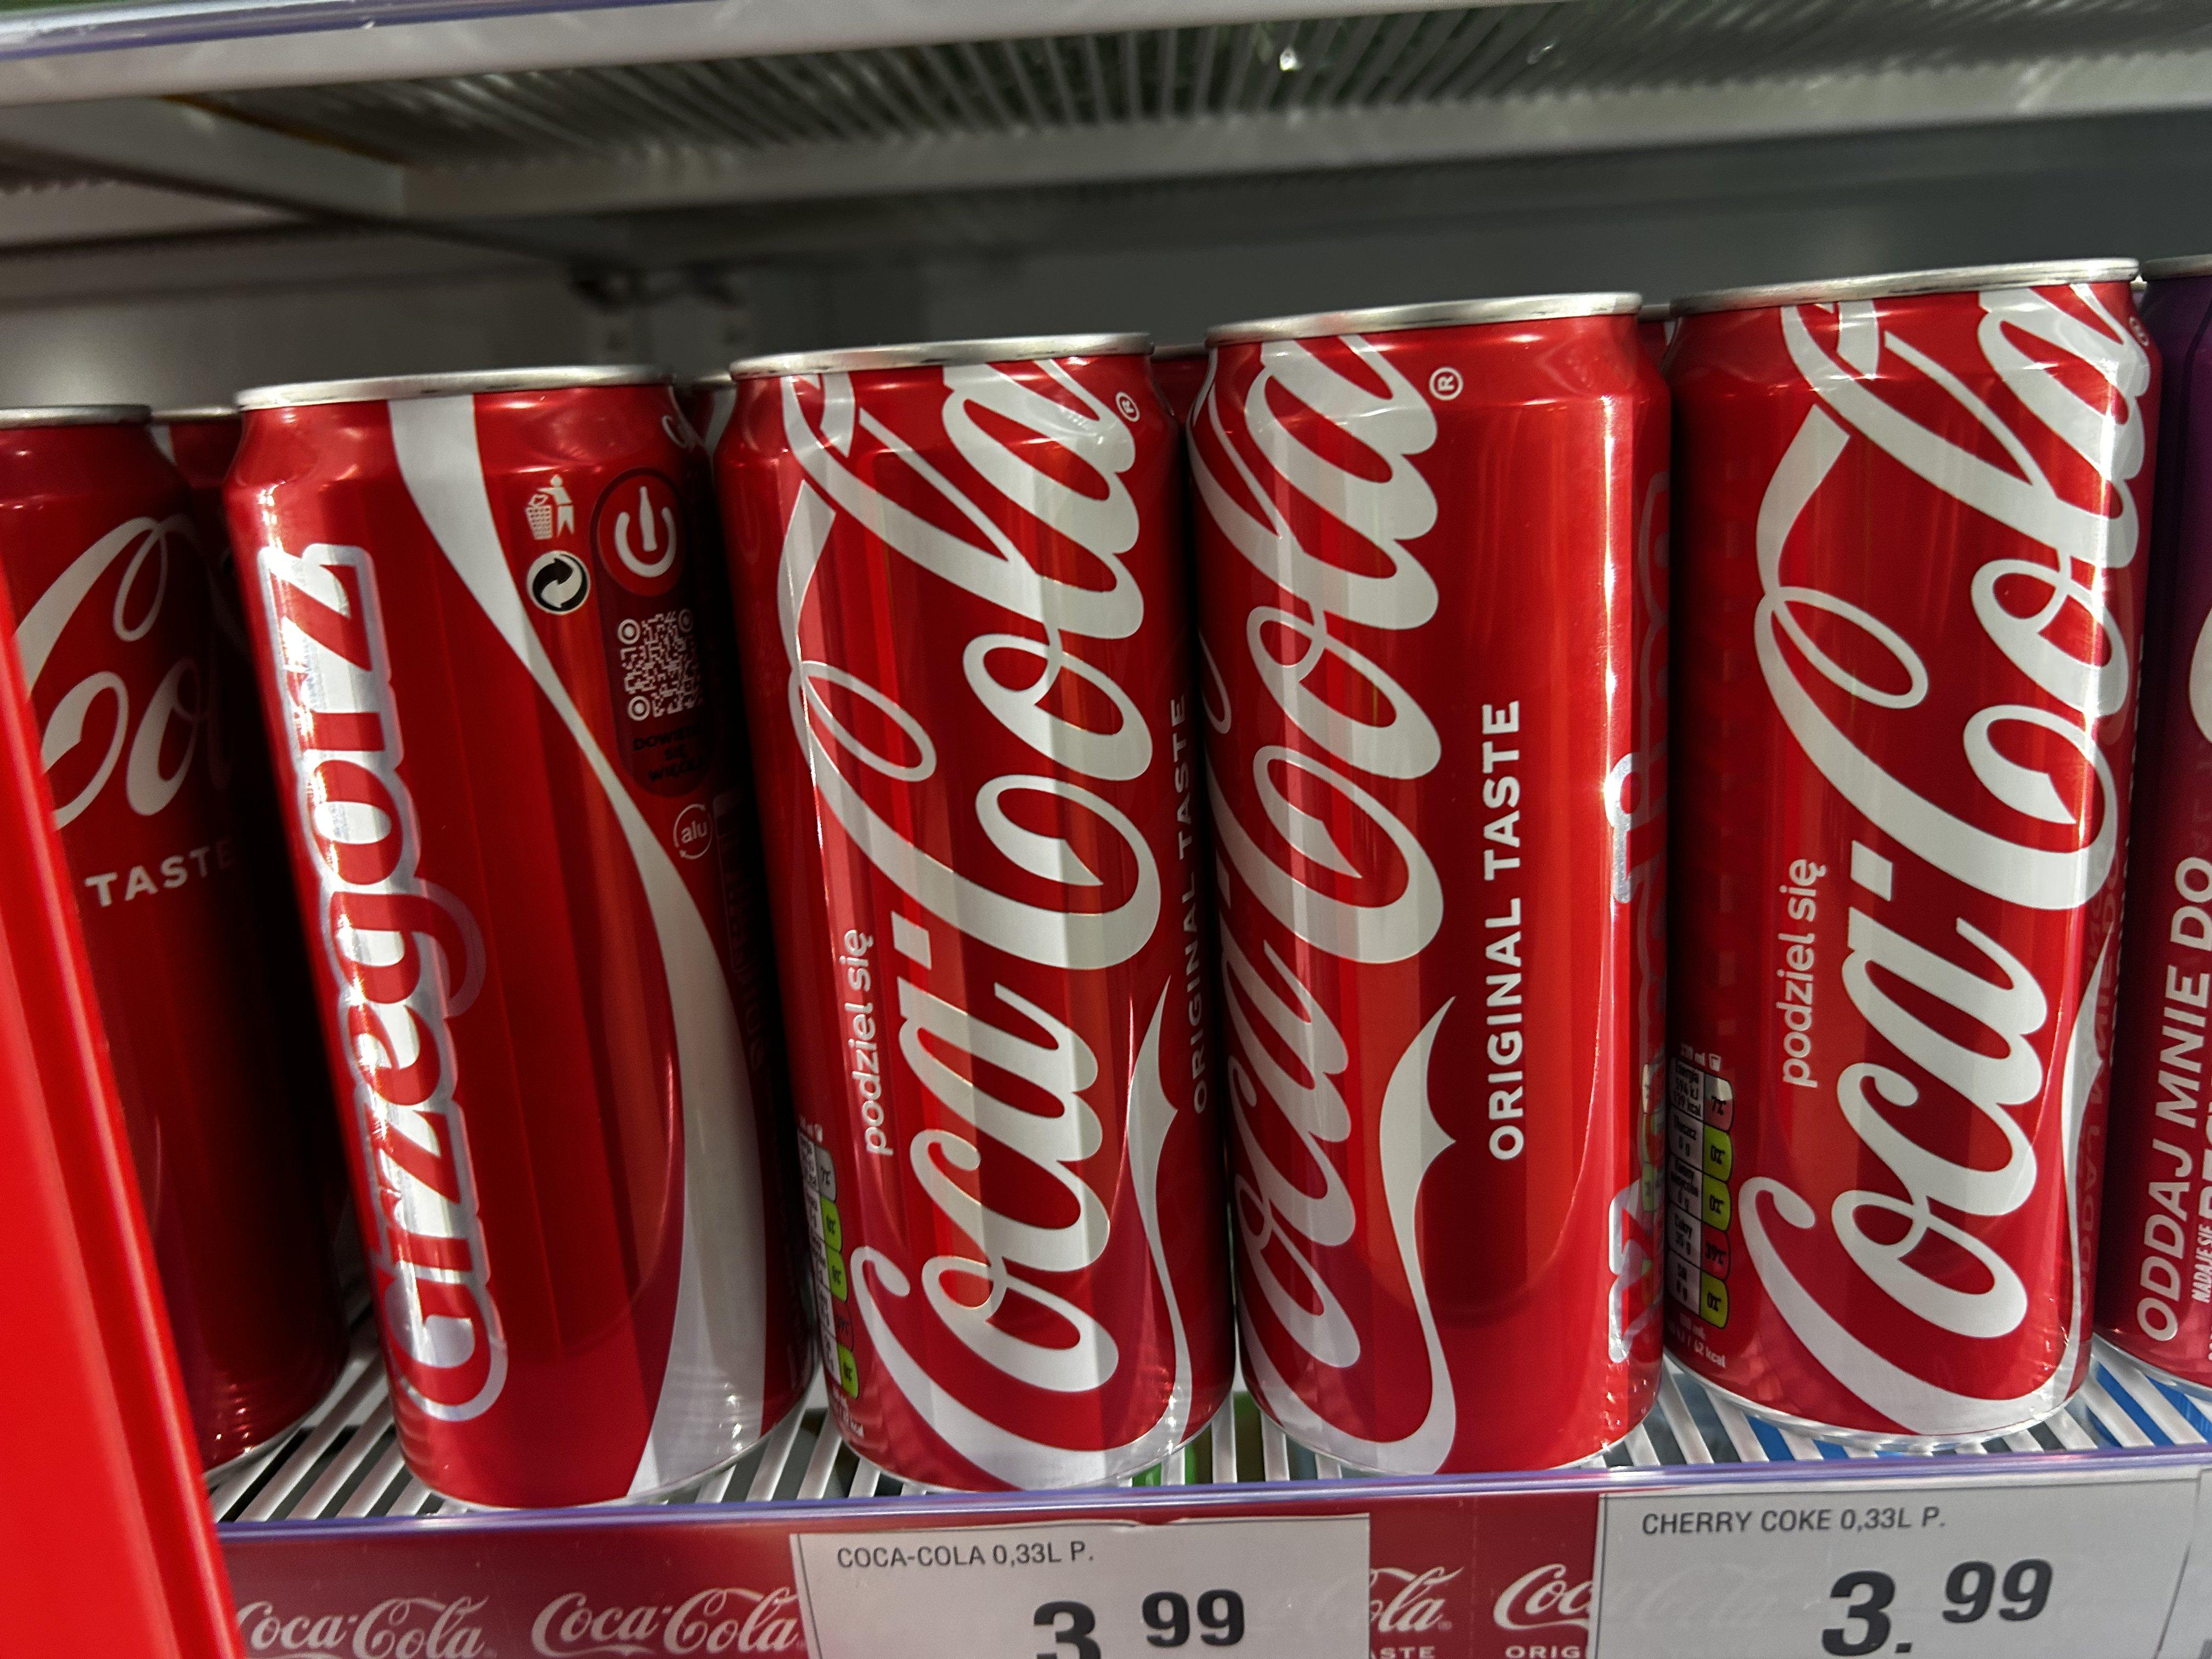Coca Cola: (228, 383, 813, 1497), (719, 345, 1240, 1502), (1190, 308, 1667, 1462), (1674, 277, 2090, 1441)
